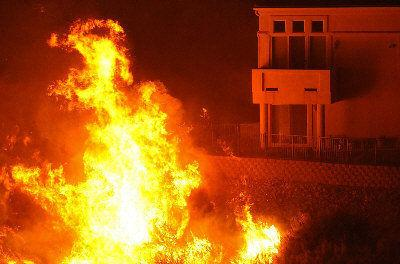fire: (75, 56, 172, 256)
